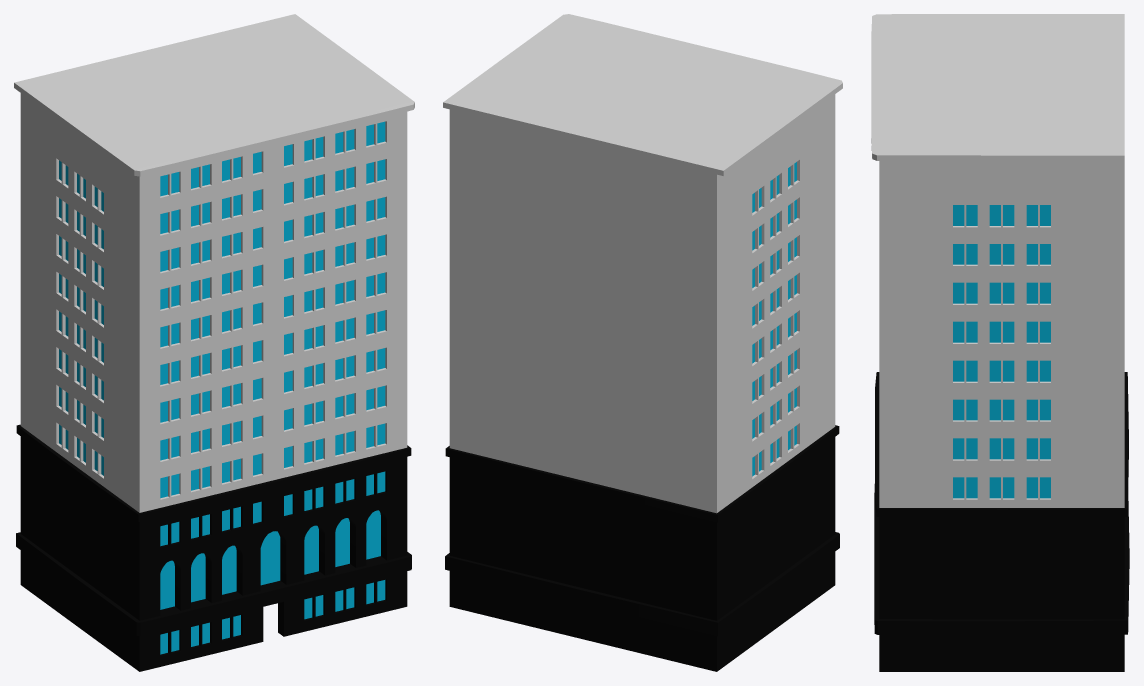
The model's file is politiebureau.fbx.
3 views of the same model, side by side, from view 1: azimuth 30°, elevation 25°; view 2: azimuth 150°, elevation 25°; view 3: azimuth 270°, elevation 25° (orthographic). The views are drawn at different scales.
Visible parts, largest first — view 1: PolitieBureau; view 2: PolitieBureau; view 3: PolitieBureau.
Part boxes in pixels (<box>): PolitieBureau: <box>14,14,414,671</box>; PolitieBureau: <box>443,14,842,671</box>; PolitieBureau: <box>871,14,1129,671</box>.
Bounding box in the file's own units: 27.3 × 46.75 × 21.04.
